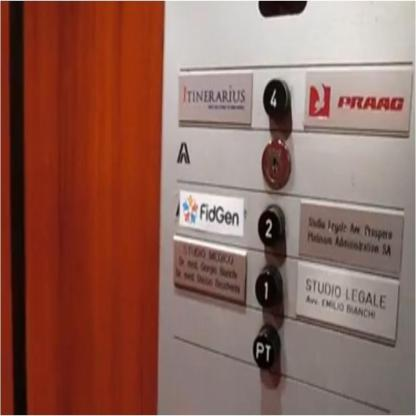1: (254, 264, 283, 313)
2: (256, 201, 287, 252)
4: (262, 74, 291, 123)
P1: (252, 323, 282, 372)
keyhole: (260, 134, 293, 191)
